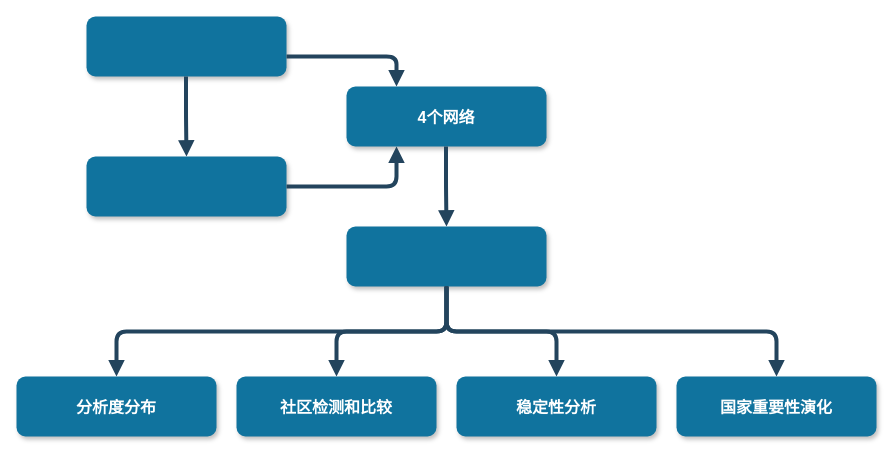
Some shapes in this 893 by 453 pixel diagram are drawn without their labels. The centre of each missing label's shape, as x and y in pixels:
"实证研究" goes at point (447, 257).
"构建1个多层网络(ETMN)" goes at point (187, 187).
"构建3个单层网络" goes at point (187, 47).
